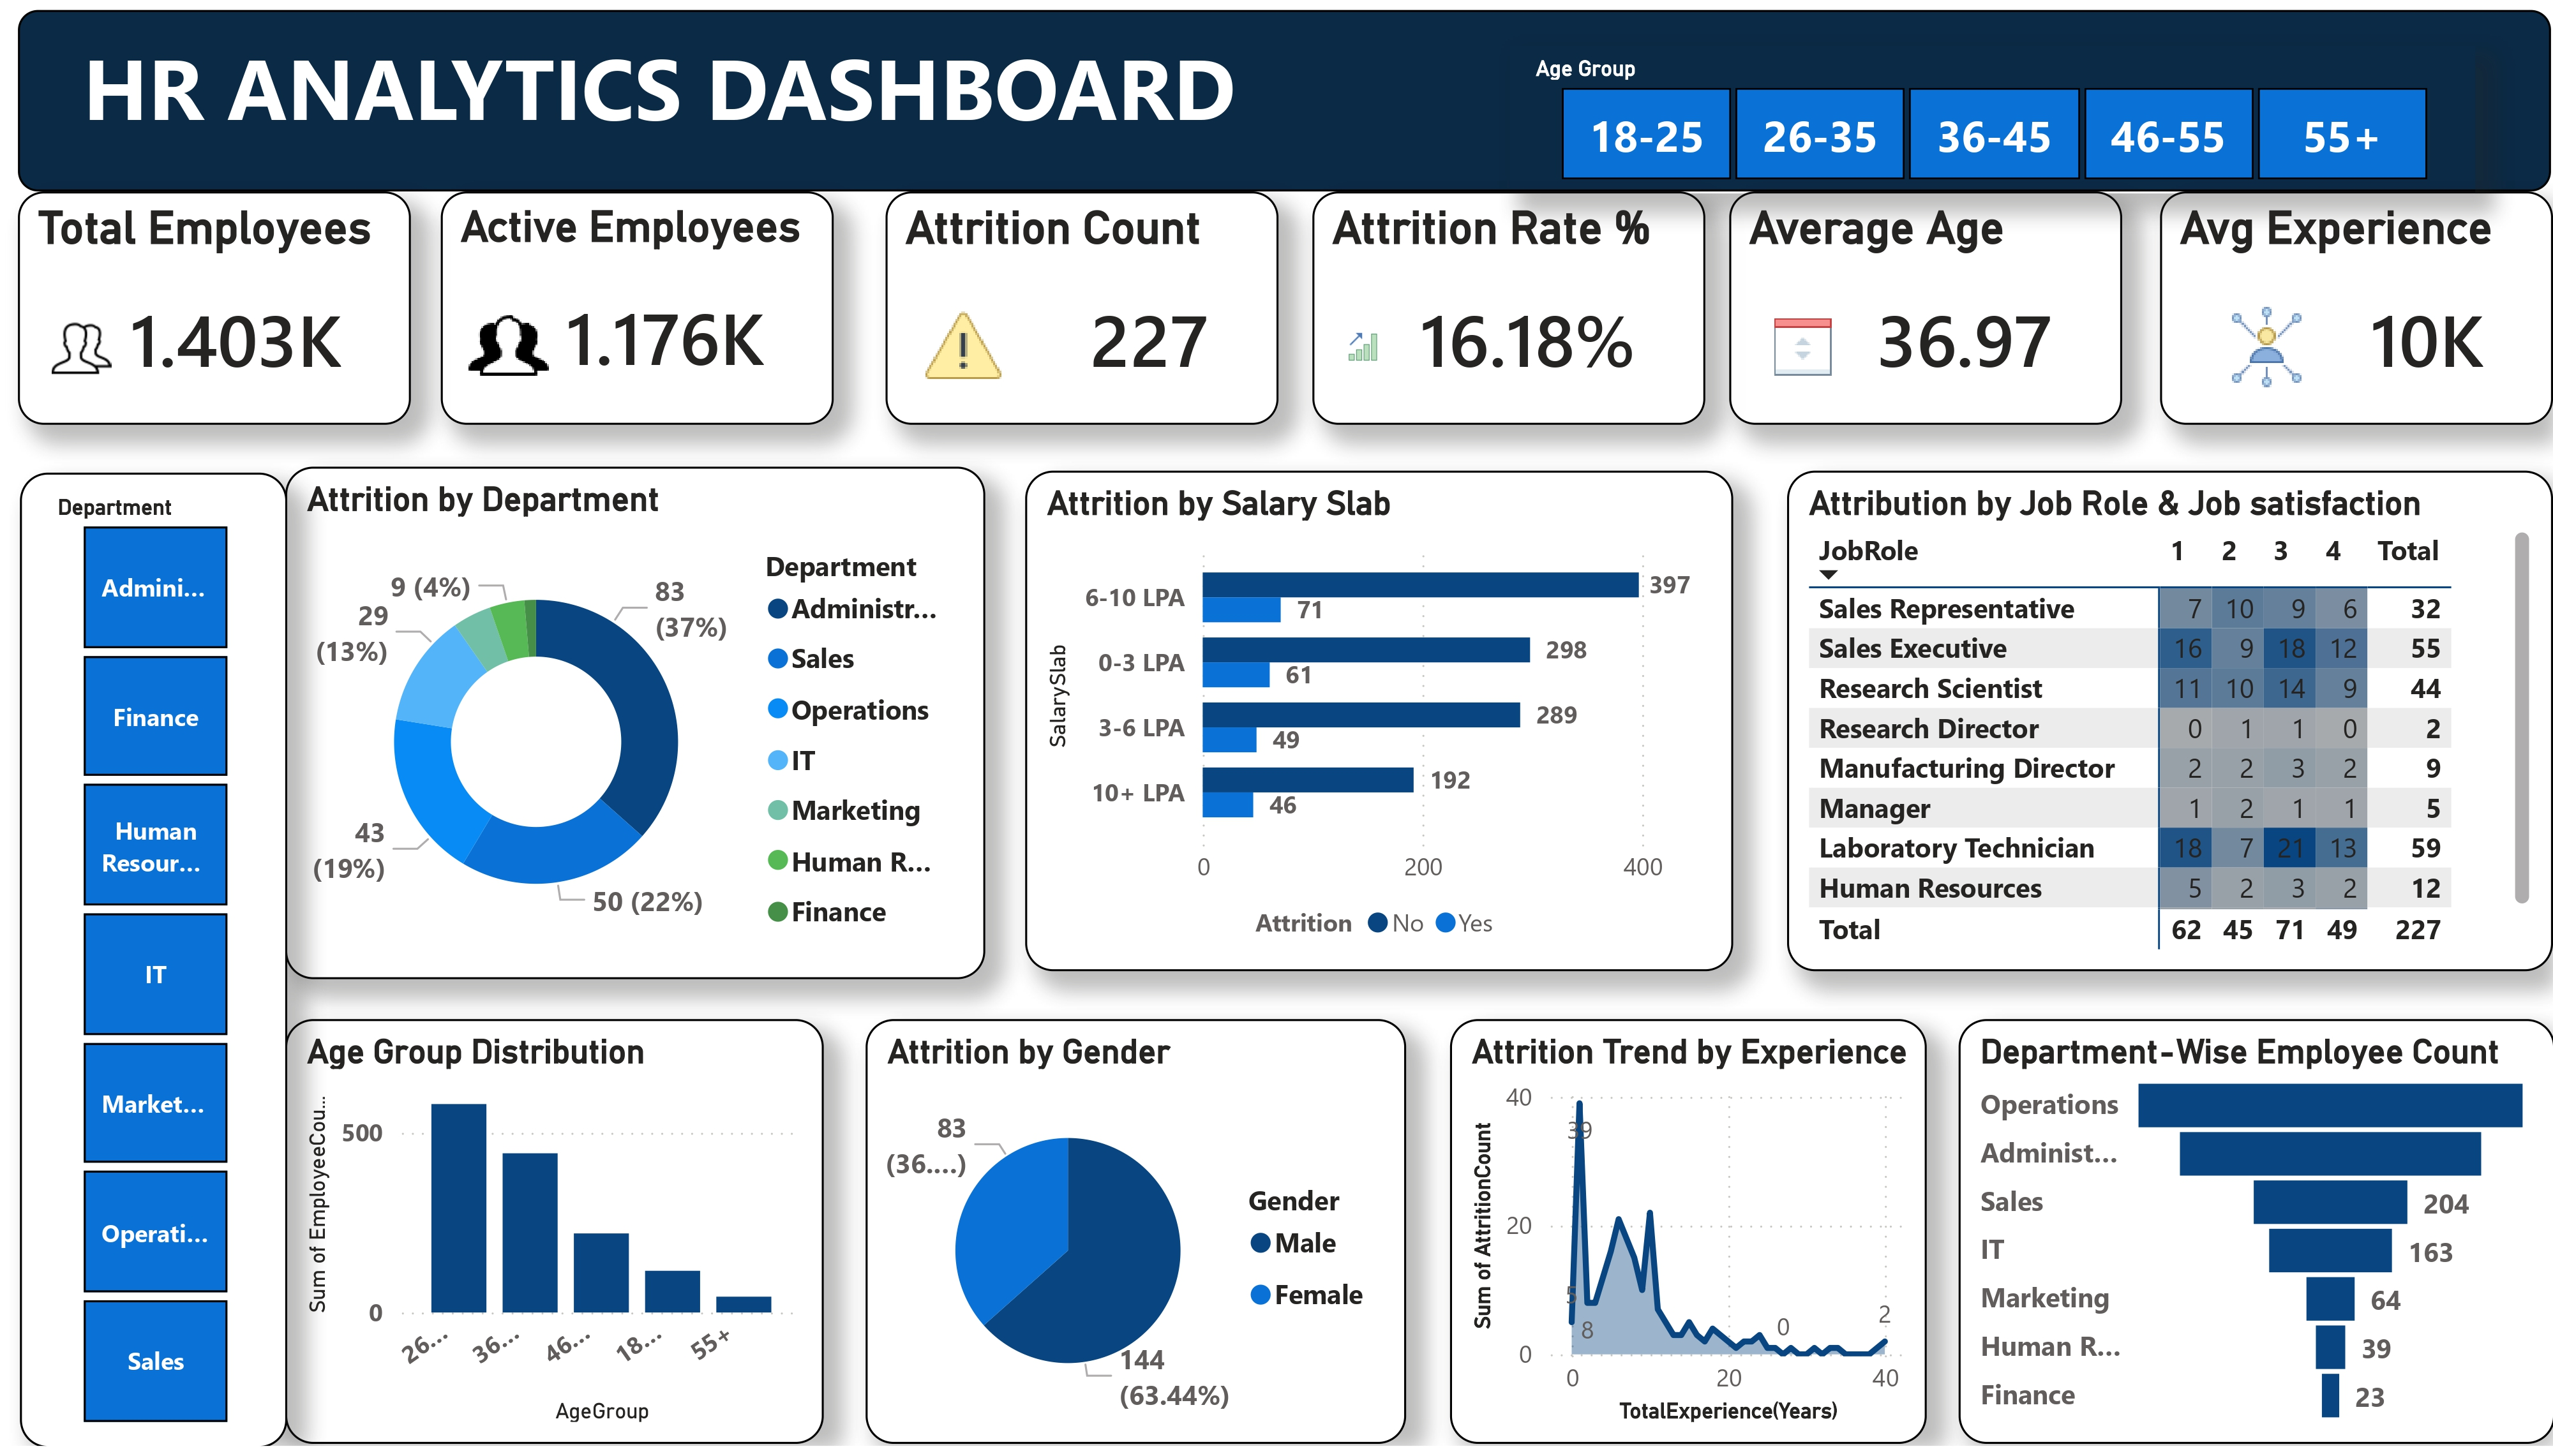

This screenshot's page, from the dashboard's own definition file:
{"tool":"powerbi","page":{"name":"Page 1","canvas":[1280,720],"ordinal":0},"visuals":[{"type":"textbox","box":[9.4,0,1269.9,90.7],"z":0},{"type":"cardVisual","title":"Total Employees","fields":{"Data":["CountNonNull(HR_Analytics-4.EmpID)"]},"box":[9.4,90.7,196.5,117.2],"z":1000},{"type":"cardVisual","title":"Attrition Rate %","fields":{"Data":["HR_Analytics-4.Attrition Rate %"]},"box":[657.6,90.7,196.5,117.2],"z":2000},{"type":"cardVisual","title":"Average Age","fields":{"Data":["Avg(HR_Analytics-4.Age)"]},"box":[867.4,90.7,196.5,117.2],"z":3000},{"type":"cardVisual","title":"Avg Experience","fields":{"Data":["Sum(HR_Analytics-4.YearsatCompany)"]},"box":[1082.8,90.7,196.5,117.2],"z":4000},{"type":"cardVisual","title":" Attrition Count","fields":{"Data":["Sum(HR_Analytics-4.AttritionCount)"]},"box":[444.1,90.7,196.5,117.2],"z":5000},{"type":"cardVisual","title":"Active Employees","fields":{"Data":["CountNonNull(HR_Analytics-4.EmployeeCount)"]},"box":[221.1,90.7,196.5,117.2],"z":6000},{"type":"image","box":[25.9,149.4,29.9,39.8],"z":7000},{"type":"image","box":[221.1,149.4,67.7,39.8],"z":8000},{"type":"image","box":[1107.4,149.4,59.8,39.8],"z":9000},{"type":"image","box":[458.1,149.4,49.8,39.8],"z":10000},{"type":"image","box":[888.3,149.4,31.9,39.8],"z":11000},{"type":"image","box":[675.8,149.1,14.9,39.8],"z":12000},{"type":"donutChart","title":"Attrition by Department","fields":{"Category":["HR_Analytics-4.Department"],"Y":["Sum(HR_Analytics-4.AttritionCount)"]},"box":[143.4,229.1,350.6,256.9],"z":13000},{"type":"clusteredBarChart","title":"Attrition by Salary Slab","fields":{"Category":["HR_Analytics-4.SalarySlab"],"Y":["CountNonNull(HR_Analytics-4.EmpID)"],"Series":["HR_Analytics-4.Attrition"]},"box":[513.9,231,354.5,251],"z":14000},{"type":"pivotTable","title":"Attribution by Job Role & Job satisfaction","fields":{"Rows":["HR_Analytics-4.JobRole"],"Columns":["HR_Analytics-4.JobSatisfaction"],"Values":["Sum(HR_Analytics-4.AttritionCount)"]},"box":[896.3,231,384.4,251],"z":15000},{"type":"columnChart","title":"Age Group Distribution","fields":{"Category":["HR_Analytics-4.AgeGroup"],"Y":["Sum(HR_Analytics-4.EmployeeCount)"]},"box":[143.4,505.9,270,213.1],"z":16000},{"type":"pieChart","title":"Attrition by Gender","fields":{"Category":["HR_Analytics-4.Gender"],"Y":["Sum(HR_Analytics-4.AttritionCount)"]},"box":[434.2,505.9,270.9,213.1],"z":17000},{"type":"areaChart","title":"Attrition Trend by Experience","fields":{"Category":["HR_Analytics-4.TotalExperience(Years)"],"Y":["Sum(HR_Analytics-4.AttritionCount)"]},"box":[727,505.9,239,213.1],"z":18000},{"type":"funnel","title":"Department-Wise Employee Count","fields":{"Category":["HR_Analytics-4.Department"],"Y":["CountNonNull(HR_Analytics-4.EmpID)"]},"box":[981.9,505.9,298.8,213.1],"z":19000},{"type":"slicer","fields":{"Values":["HR_Analytics-4.Department"]},"box":[9.9,231.9,134.2,488.7],"z":20000},{"type":"slicer","fields":{"Values":["HR_Analytics-4.AgeGroup"]},"box":[756.9,17.9,484,73.7],"z":21000}]}

Visuals, with their boxes in screenshot pixels (x1, y1, x2, y2), scaled from the page's 1280x720 canvas onto the 2553x1456 screenshot:
textbox: 19 0 2552 183
"Total Employees" cardVisual: 19 183 410 420
"Attrition Rate %" cardVisual: 1312 183 1703 420
"Average Age" cardVisual: 1730 183 2122 420
"Avg Experience" cardVisual: 2160 183 2552 420
" Attrition Count" cardVisual: 886 183 1278 420
"Active Employees" cardVisual: 441 183 833 420
image: 52 302 111 383
image: 441 302 576 383
image: 2209 302 2328 383
image: 914 302 1013 383
image: 1772 302 1836 383
image: 1348 302 1377 382
"Attrition by Department" donutChart: 286 463 985 983
"Attrition by Salary Slab" clusteredBarChart: 1025 467 1732 975
"Attribution by Job Role & Job satisfaction" pivotTable: 1788 467 2552 975
"Age Group Distribution" columnChart: 286 1023 825 1454
"Attrition by Gender" pieChart: 866 1023 1406 1454
"Attrition Trend by Experience" areaChart: 1450 1023 1927 1454
"Department-Wise Employee Count" funnel: 1958 1023 2552 1454
slicer - HR_Analytics-4.Department: 20 469 287 1455
slicer - HR_Analytics-4.AgeGroup: 1509 36 2475 185
